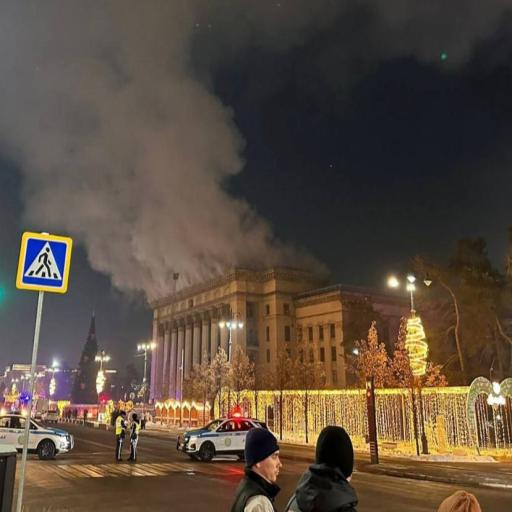chair: (48, 462, 244, 479)
crosswalk: (285, 426, 358, 512), (230, 427, 281, 512)
glass_wall: (18, 424, 512, 512)
